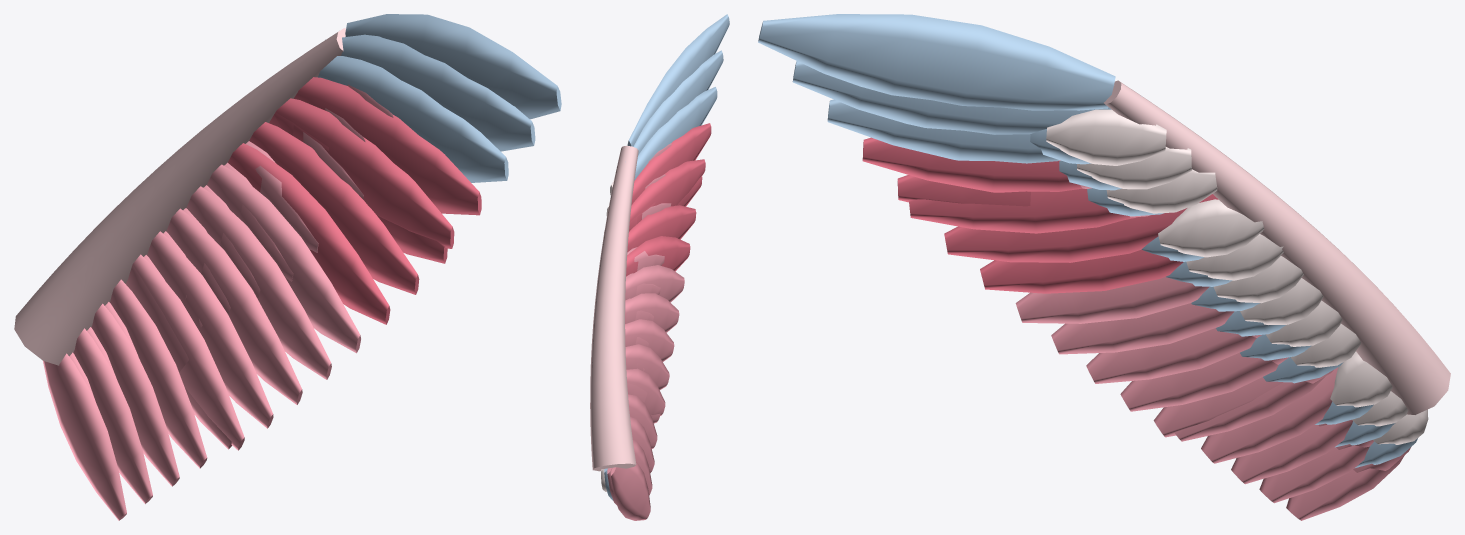
Rendered from FlamingoWingR.glb.
3 views of the same model, side by side, from view 1: azimuth 30°, elevation 25°; view 2: azimuth 150°, elevation 25°; view 3: azimuth 270°, elevation 25° (orthographic). The views are drawn at different scales.
Visible parts, largest first — view 1: FlamingoWingR__PinkWing, FlamingoWingR__Coral, FlamingoWingR__PaleBlue, FlamingoWingR__Cream; view 2: FlamingoWingR__PinkWing, FlamingoWingR__Cream, FlamingoWingR__Coral, FlamingoWingR__PaleBlue; view 3: FlamingoWingR__PaleBlue, FlamingoWingR__PinkWing, FlamingoWingR__CreamWhite, FlamingoWingR__Coral, FlamingoWingR__Cream.
Boxes of the visible parts, x1,y1,x2,y2 form: FlamingoWingR__PinkWing: (43, 85, 393, 520); FlamingoWingR__Coral: (228, 77, 481, 324); FlamingoWingR__PaleBlue: (317, 14, 561, 182); FlamingoWingR__Cream: (14, 28, 345, 365); FlamingoWingR__PinkWing: (607, 143, 684, 520); FlamingoWingR__Cream: (590, 145, 638, 471); FlamingoWingR__Coral: (626, 123, 711, 276); FlamingoWingR__PaleBlue: (604, 14, 729, 500); FlamingoWingR__PaleBlue: (758, 14, 1417, 467); FlamingoWingR__PinkWing: (1015, 160, 1410, 520); FlamingoWingR__CreamWhite: (1046, 109, 1428, 444); FlamingoWingR__Coral: (862, 137, 1218, 293); FlamingoWingR__Cream: (1104, 80, 1450, 414).
Bounding box in the file's own units: 1.17 × 3.6 × 3.94.
